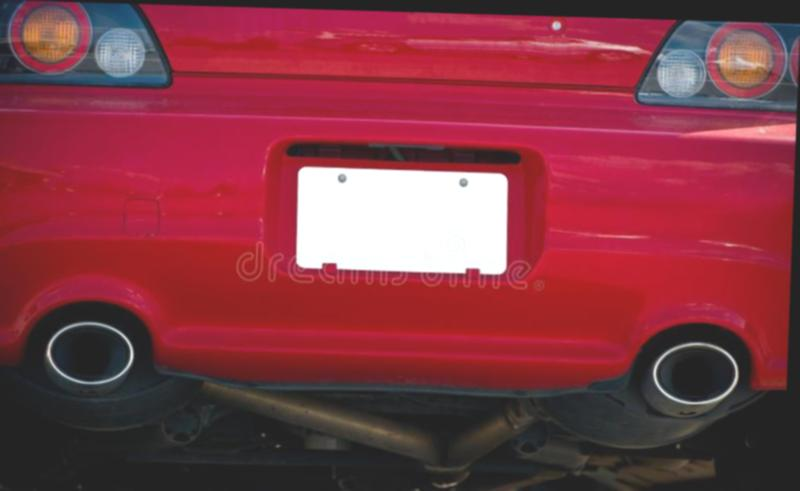License_Plate: (288, 158, 515, 292)
